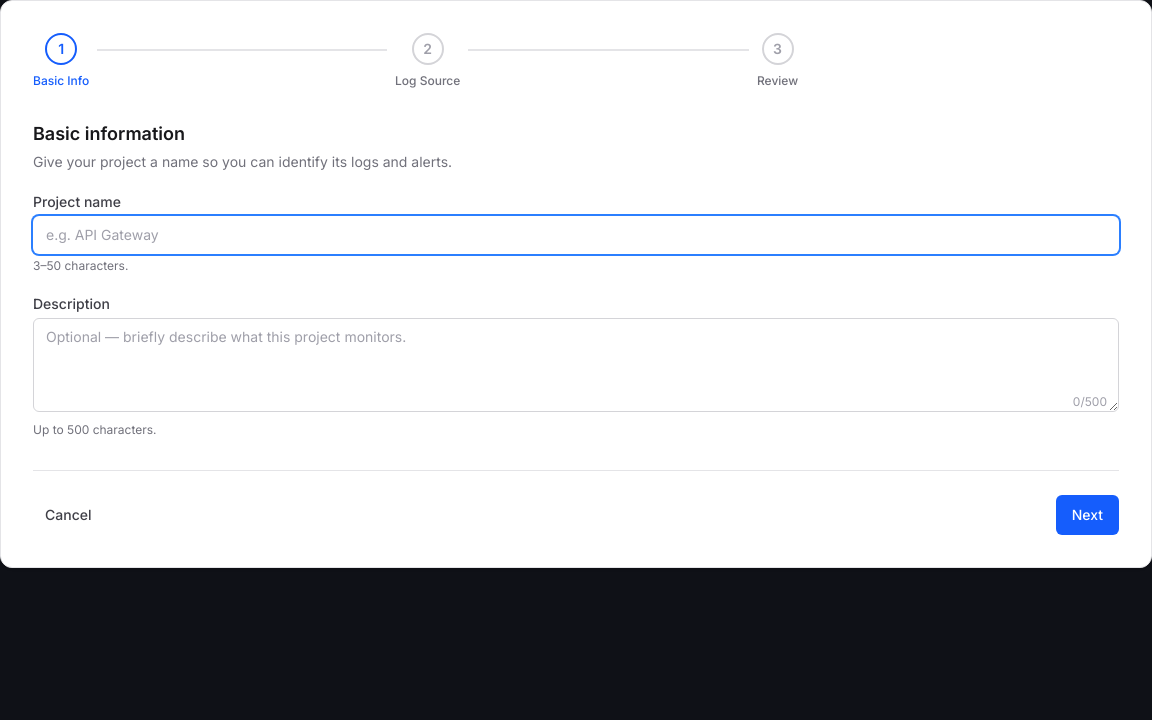
it: NewProjectWizard — Step 2: Log Source › switches to Infrastructure type and shows file path field
Type "API Gateway" into the field labelled "Project name" at (576, 235), box top-left (33, 216), bottom-right (1119, 254)
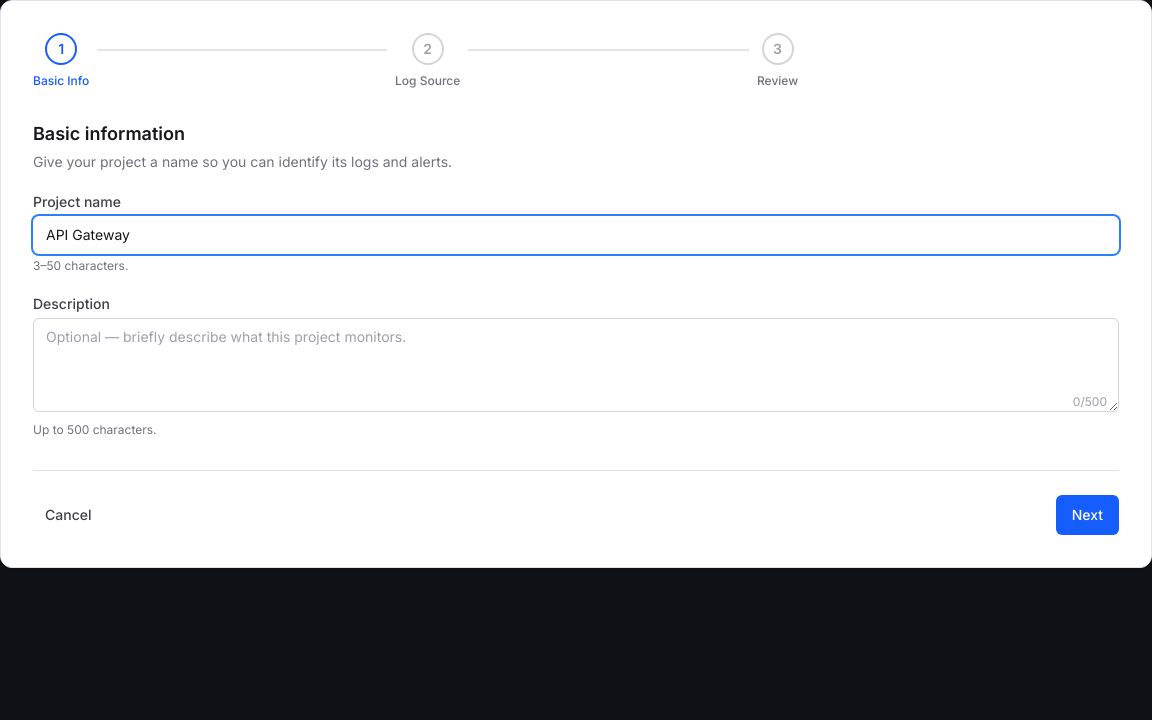
Click the button "Next" at (1087, 515), box top-left (1056, 495), bottom-right (1119, 535)
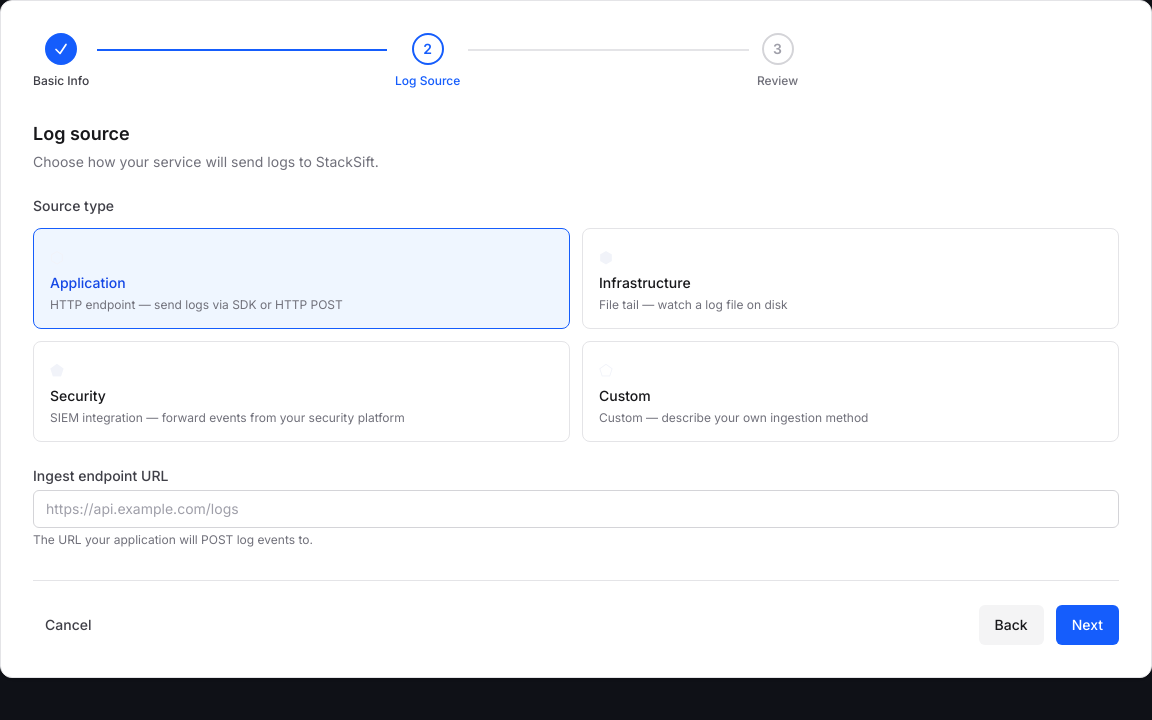
Now the radio button labelled "⬡ Application HTTP endpoint — send logs via SDK or HTTP POST" is shown, box top-left (33, 228), bottom-right (570, 329)
Click the radio button labelled "⬢ Infrastructure File tail — watch a log file on disk" at (645, 282), box top-left (582, 228), bottom-right (1119, 329)
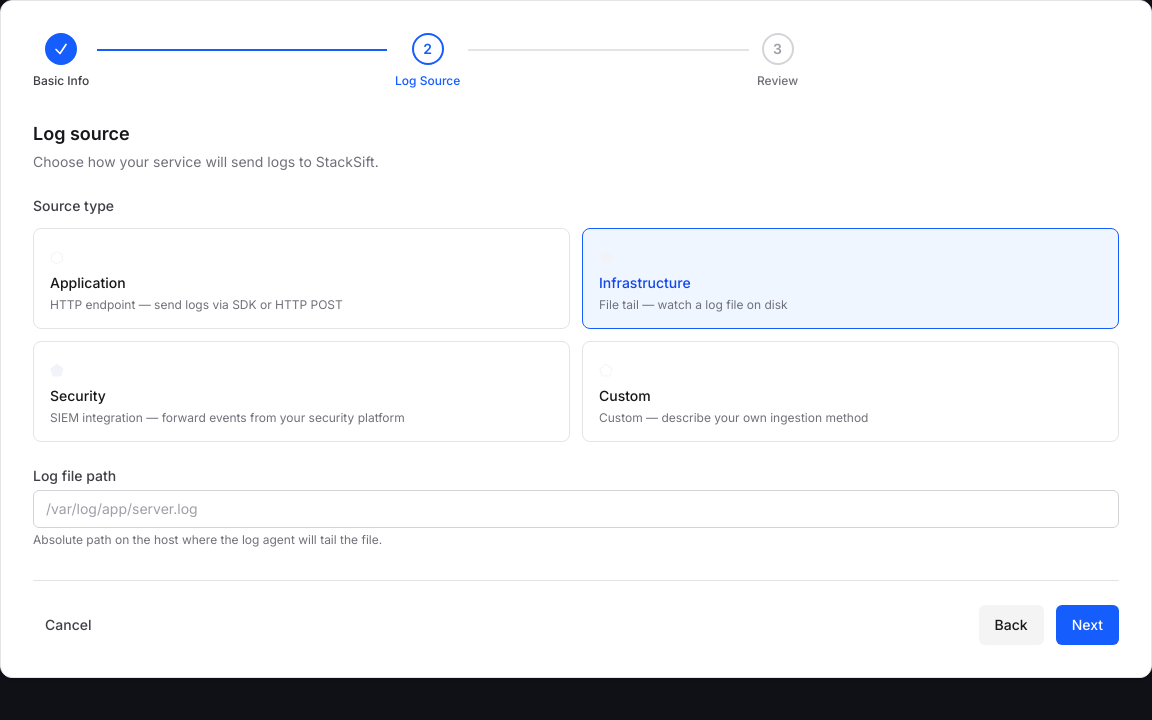
Now the field labelled "Log file path" is shown, box top-left (33, 490), bottom-right (1119, 528)
Now the label "Ingest endpoint URL" is gone
